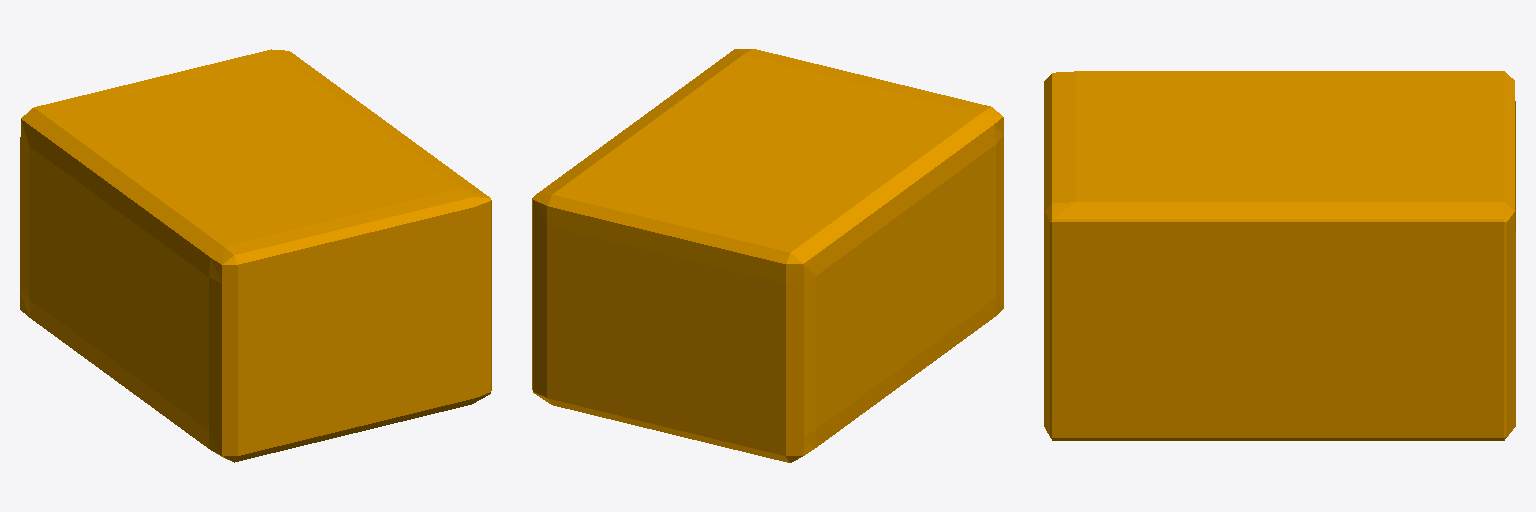
robot.urdf — cylinder_box_186:
<?xml version="1.0" encoding="utf-8"?>  <robot name="cylinder_box_186">   <link name="cylinder_box_186">     <visual>       <geometry>         <mesh filename="../meshes/box/box_186.stl" scale="1 1 1"/>       </geometry>     </visual>     <collision>       <geometry>         <mesh filename="../meshes/box/box_186.stl" scale="1 1 1"/>       </geometry>     </collision>     <inertial>        <origin         xyz="0 0 0"         rpy="0 0 0" />       <mass value="0.40266944713055847"/>       <origin rpy="0 0 0" xyz="0 0 0"/>       <inertia ixx="0.0004263423625485248" ixy="1.2840472698150944e-07" ixz="-1.1123815201050783e-07" iyy="0.0002841460759853641" iyz="2.7782974226811415e-08" izz="0.0005088068347243177"/>     </inertial>   </link>  </robot>

--- What the picture shows (computed from the rendered views, not written in the file) ---
3 views of the same robot in one strip: view 1: azimuth 30°, elevation 25°; view 2: azimuth 150°, elevation 25°; view 3: azimuth 270°, elevation 25° (orthographic).
Model cylinder_box_186 with 1 links and 0 joints (none), rooted at cylinder_box_186, posed all joints at 0.
Visible links, largest first — view 1: cylinder_box_186; view 2: cylinder_box_186; view 3: cylinder_box_186.
Link boxes in pixels (x1,y1,x2,y2): cylinder_box_186: [20, 49, 491, 462]; cylinder_box_186: [532, 49, 1003, 462]; cylinder_box_186: [1044, 71, 1515, 440].
Size in the robot's own frame: 0.0745 by 0.099 by 0.0552 metres.
Meshes: 1 distinct files referenced, 1 mesh visuals loaded (1 binary STL).